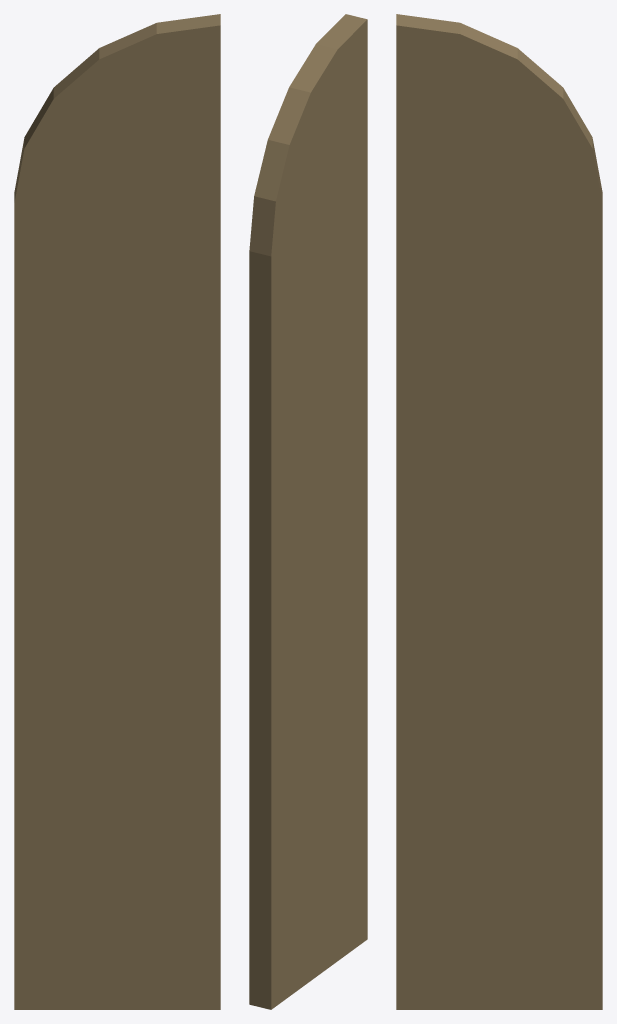
File: Door_02.fbx
3 renders of one model, left to right at view 1: azimuth 90°, elevation 25°; view 2: azimuth 150°, elevation 25°; view 3: azimuth 270°, elevation 25°, orthographic. The views are drawn at different scales.
Parts seen in each view (by area): view 1: Door_02; view 2: Door_02; view 3: Door_02.
Part boxes in pixels (x1=…): Door_02: x1=14, y1=14, x2=220, y2=1009; Door_02: x1=249, y1=14, x2=367, y2=1009; Door_02: x1=396, y1=14, x2=602, y2=1009.
Size of the model in its own units: 6.72 by 271 by 51.35.
